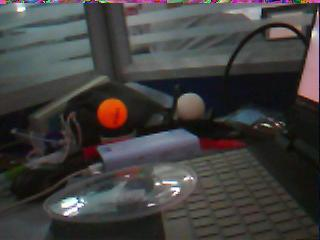oball: (97, 98, 128, 127)
